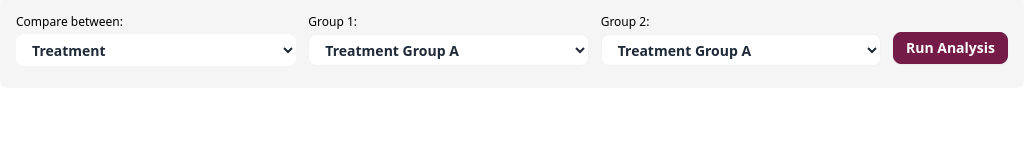
Scenario: AnalysisSettings › shows error when same group selected
The image size is (1024, 160).
Click the button "Run Analysis" at (950, 48), box top-left (893, 32), bottom-right (1008, 64)
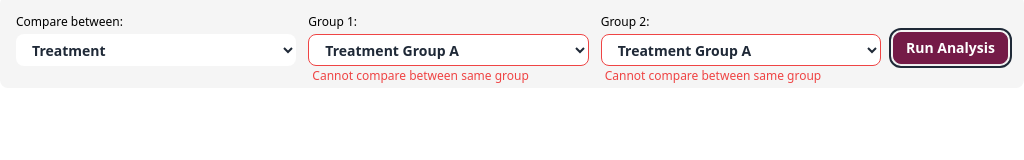
Now the text "Cannot compare between same group" is shown 2 times, box top-left (312, 68), bottom-right (529, 84); top-left (605, 68), bottom-right (821, 84)
